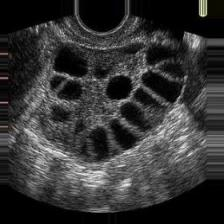pcos: (31, 34, 199, 170)
